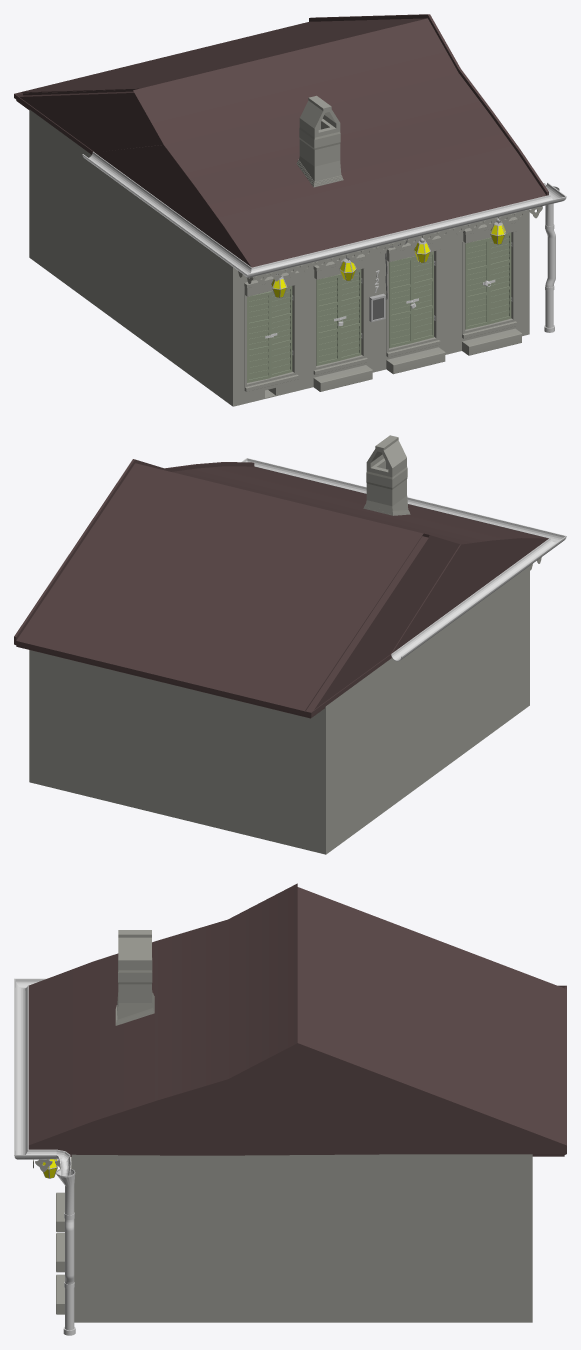
The model's file is house4_merged.fbx.
3 views of the same model, one above another, from view 1: azimuth 30°, elevation 25°; view 2: azimuth 150°, elevation 25°; view 3: azimuth 270°, elevation 25° (orthographic). The views are drawn at different scales.
Visible parts, largest first — view 1: right4; view 2: right4; view 3: right4.
Boxes of the visible parts, left/top/right/bottom form: right4: left=14, top=14, right=566, bottom=406; right4: left=14, top=435, right=566, bottom=854; right4: left=14, top=883, right=566, bottom=1335.
Size of the model in its own units: 918 by 672 by 1162.
